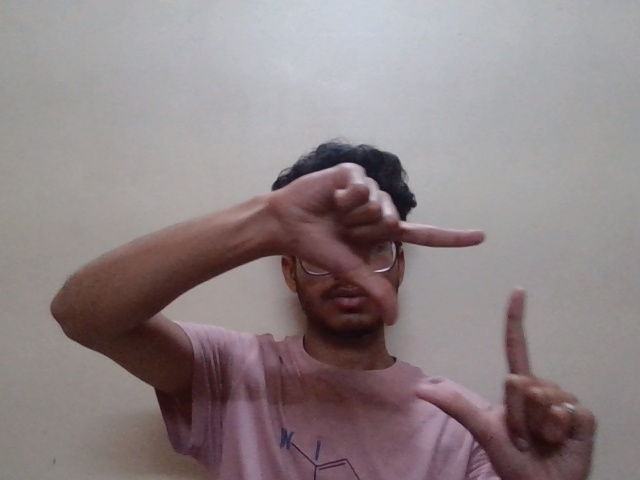video: (322, 161, 601, 460)
